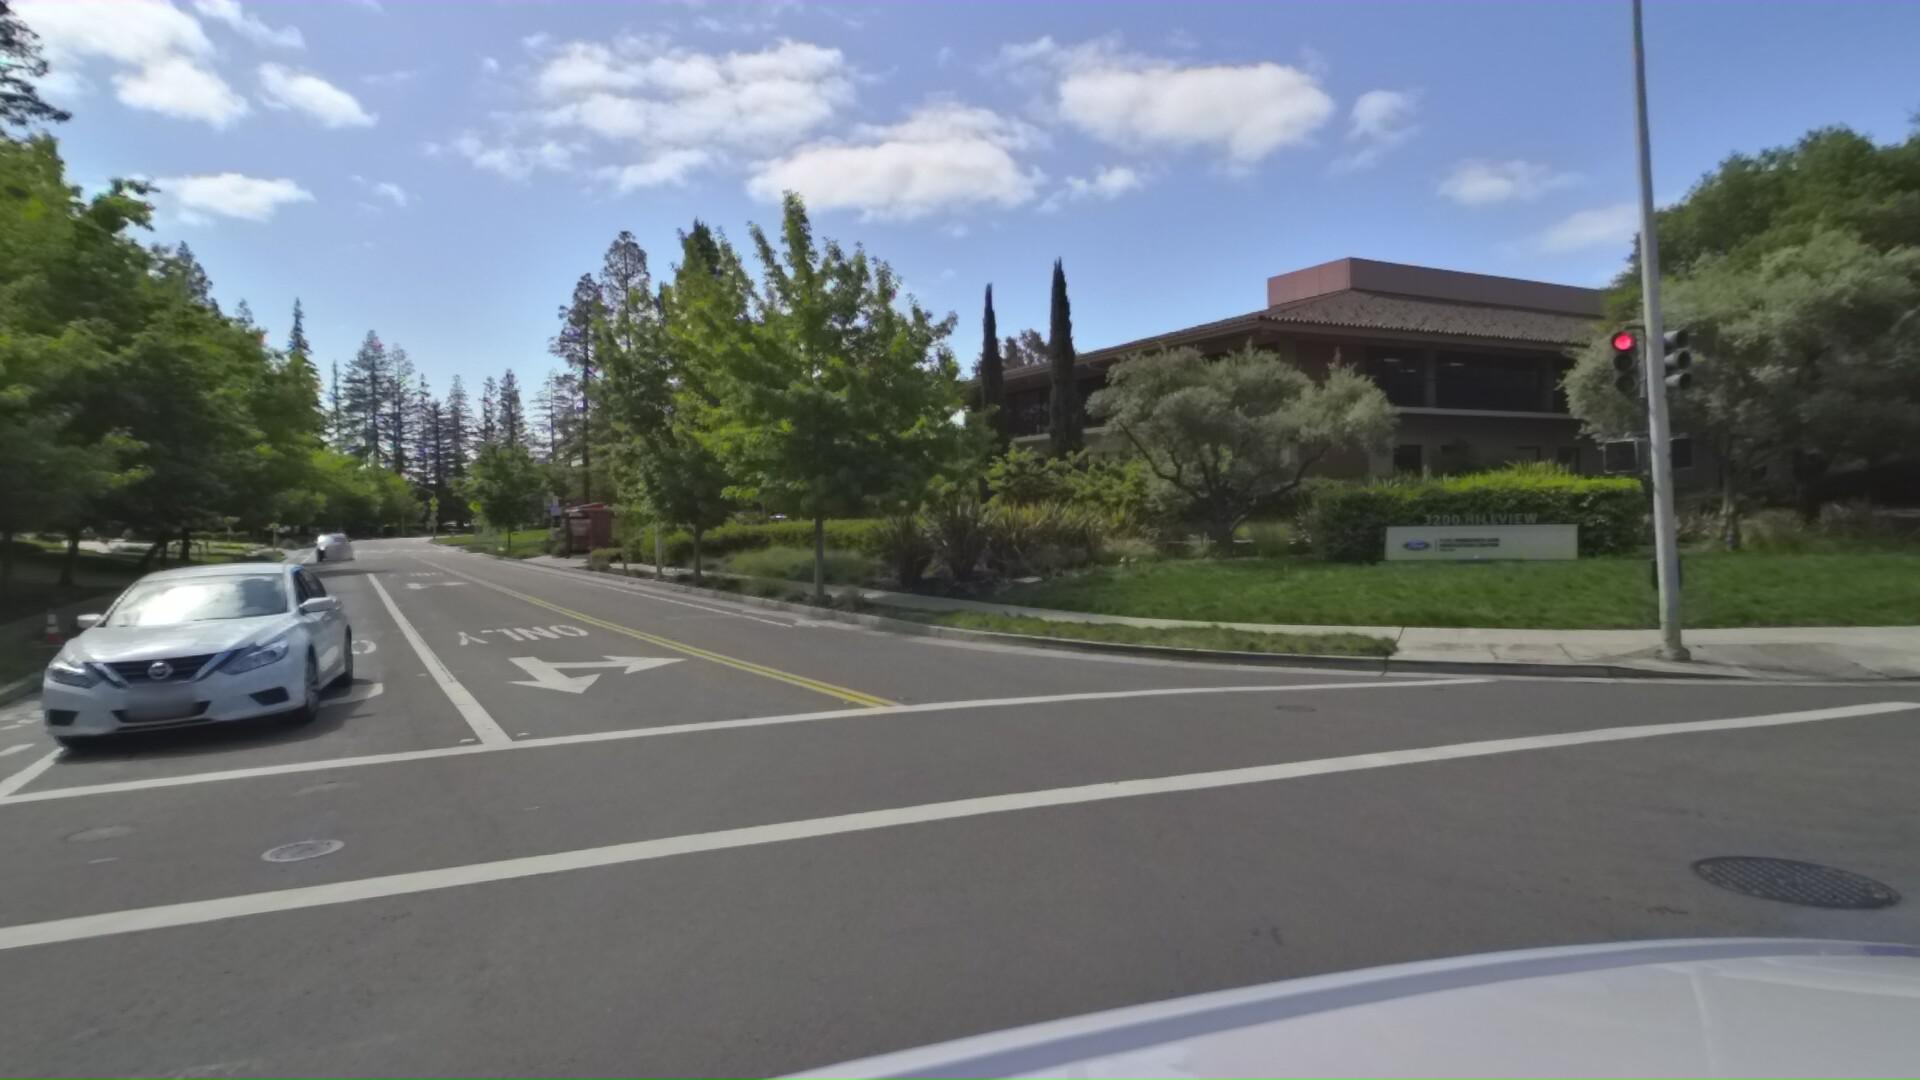car: (38, 538, 386, 771), (318, 531, 359, 564)
